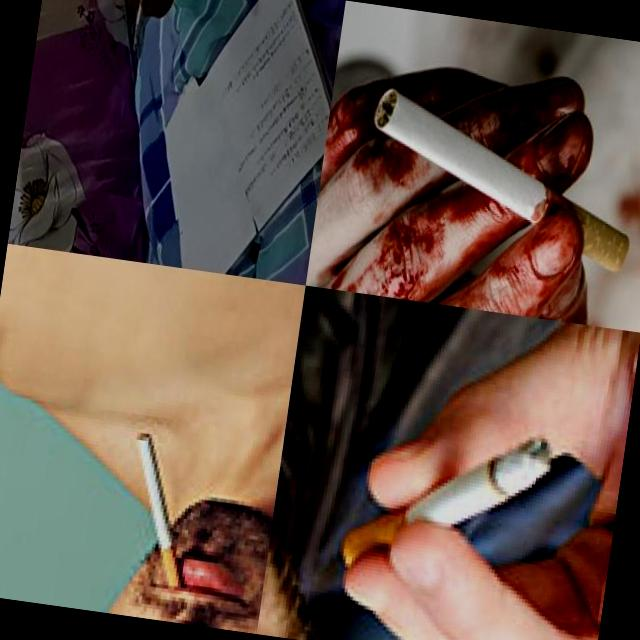smoke: (355, 85, 640, 279), (337, 409, 561, 602), (115, 430, 207, 600), (131, 0, 146, 51)
